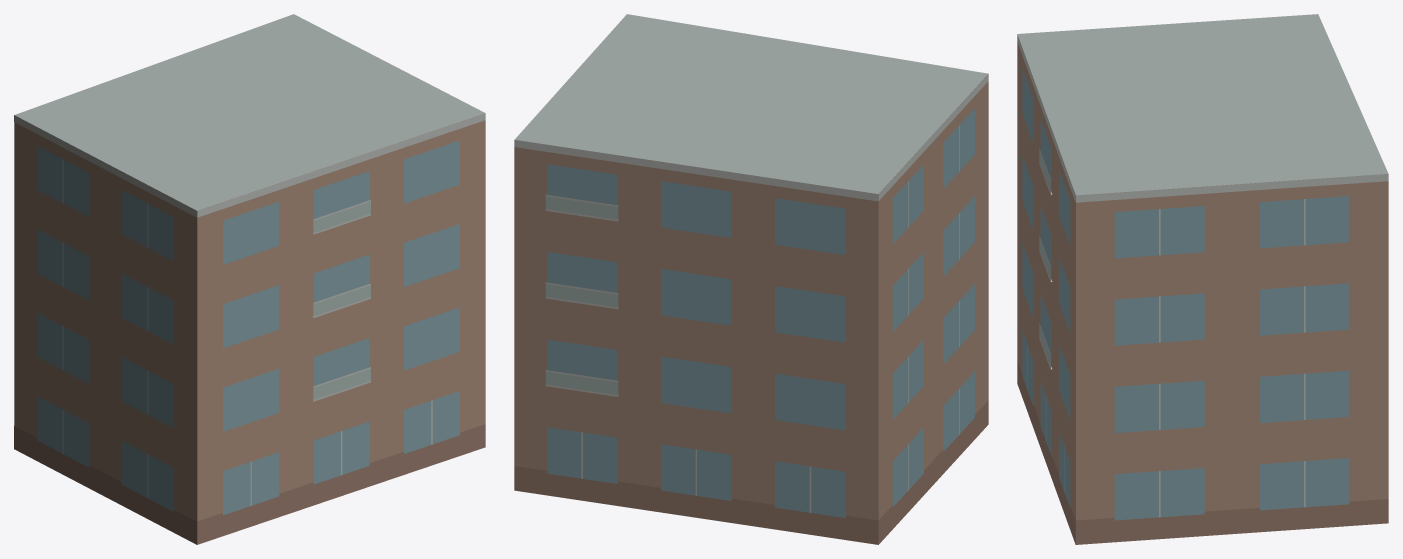
Rendered from survey-upis-32576972.glb.
3 renders of one model, left to right at view 1: azimuth 30°, elevation 25°; view 2: azimuth 150°, elevation 25°; view 3: azimuth 270°, elevation 25°, orthographic. The views are drawn at different scales.
Parts seen in each view (by area): view 1: survey-upis-32576972.tmp; view 2: survey-upis-32576972.tmp; view 3: survey-upis-32576972.tmp.
Part boxes in pixels (left/top/right/bottom): survey-upis-32576972.tmp: left=14, top=14, right=485, bottom=544; survey-upis-32576972.tmp: left=514, top=14, right=988, bottom=544; survey-upis-32576972.tmp: left=1017, top=14, right=1388, bottom=544.
Size of the model in its own units: 13.1 by 11.75 by 11.33.
